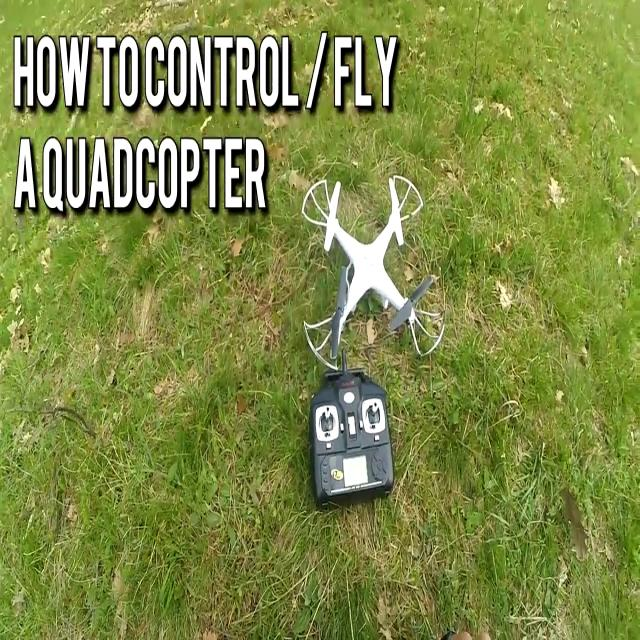drones: (294, 151, 449, 384)
